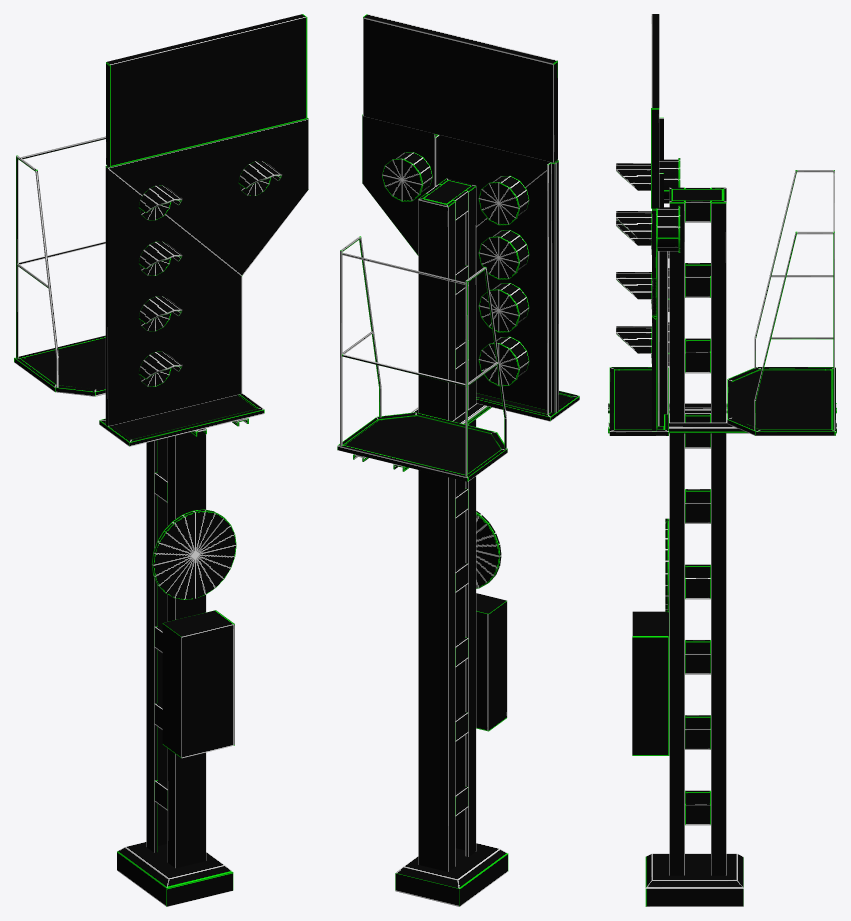
The model's file is sein01_export.FBX.
The picture shows the model from 3 angles, left to right: view 1: azimuth 30°, elevation 25°; view 2: azimuth 150°, elevation 25°; view 3: azimuth 270°, elevation 25°; orthographic projection. The views are drawn at different scales.
Visible parts, largest first — view 1: Box016; view 2: Box016; view 3: Box016.
Boxes of the visible parts, bbox=[...] form: Box016: bbox=[14, 14, 308, 906]; Box016: bbox=[337, 14, 579, 906]; Box016: bbox=[608, 14, 836, 906].
Size of the model in its own units: 0.9959 by 4.05 by 1.
